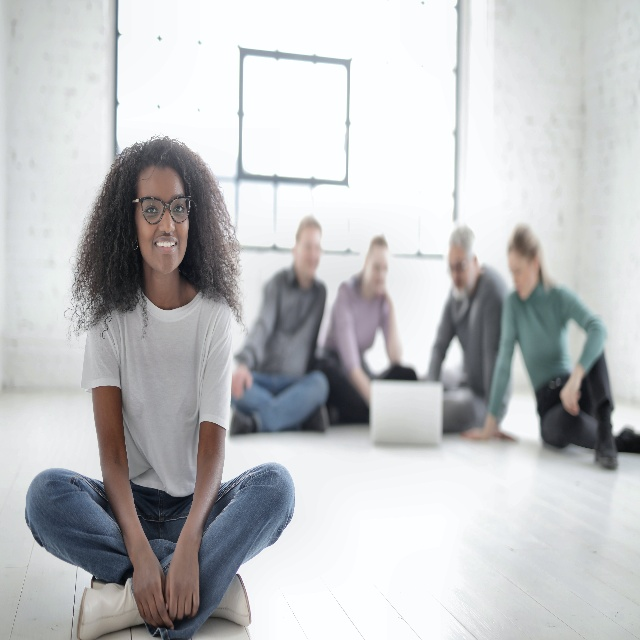Gafas: (140, 189, 192, 228)
Sin_guantes: (165, 536, 202, 617), (133, 558, 174, 630), (559, 375, 582, 415), (232, 364, 251, 398), (463, 422, 491, 441)
